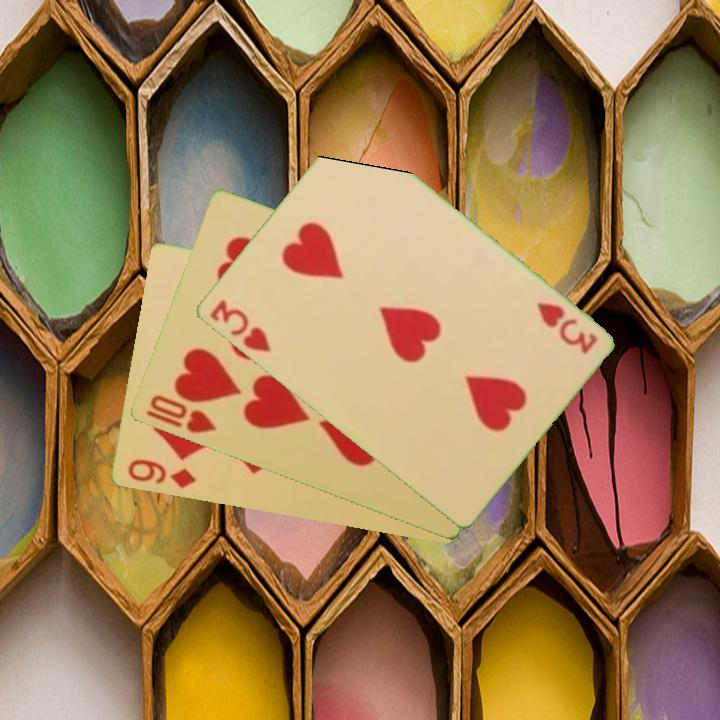10h: (141, 391, 219, 437)
3h: (205, 296, 274, 356), (532, 298, 600, 358)
9d: (123, 456, 198, 492)
